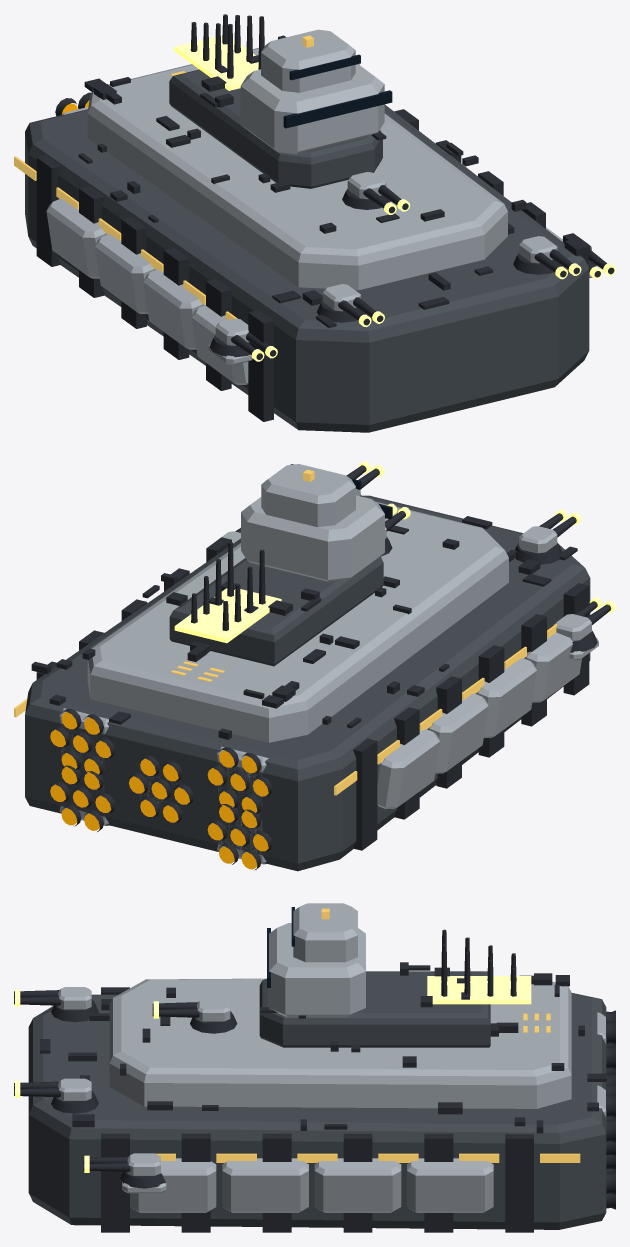
File: ship_bastion.glb
3 renders of one model, top to bottom at view 1: azimuth 30°, elevation 25°; view 2: azimuth 150°, elevation 25°; view 3: azimuth 270°, elevation 25°, orthographic. The views are drawn at different scales.
Visible parts, largest first — view 1: primary, secondary, trim, accent, glass, glow; view 2: secondary, primary, trim, engine, accent, glow; view 3: secondary, primary, trim, accent, glow.
Part boxes in pixels (<box>): primary: <box>25,55,589,432</box>; secondary: <box>46,29,598,384</box>; trim: <box>36,14,614,421</box>; accent: <box>174,35,615,361</box>; glass: <box>283,54,392,128</box>; glow: <box>14,35,313,319</box>; secondary: <box>59,464,598,864</box>; primary: <box>25,495,590,871</box>; trim: <box>31,465,611,870</box>; engine: <box>50,712,268,869</box>; accent: <box>174,461,615,643</box>; glow: <box>14,469,557,795</box>; secondary: <box>58,903,606,1212</box>; primary: <box>28,971,606,1229</box>; trim: <box>14,929,615,1232</box>; accent: <box>15,976,531,1172</box>; glow: <box>155,908,580,1162</box>.
Bounding box in the file's own units: 4.37 × 2.95 × 6.25.
